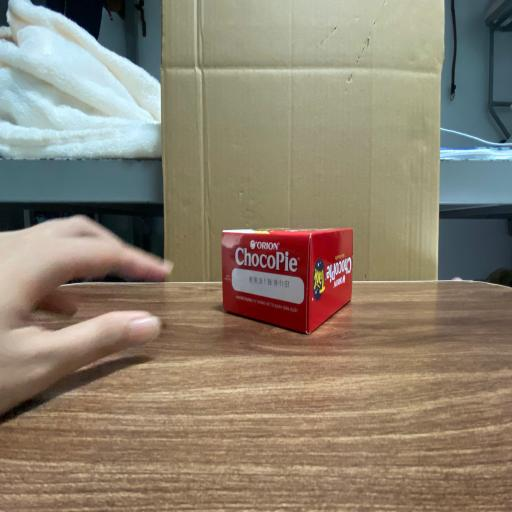chocopie: (220, 229, 352, 333)
